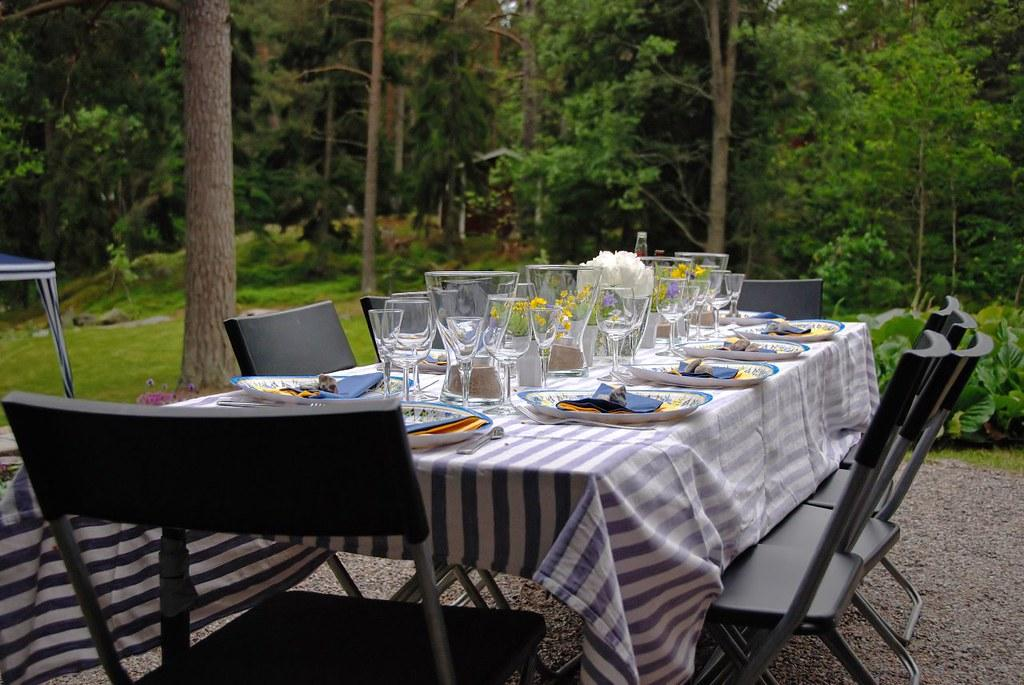table: (156, 309, 881, 684), (1, 253, 75, 399)
